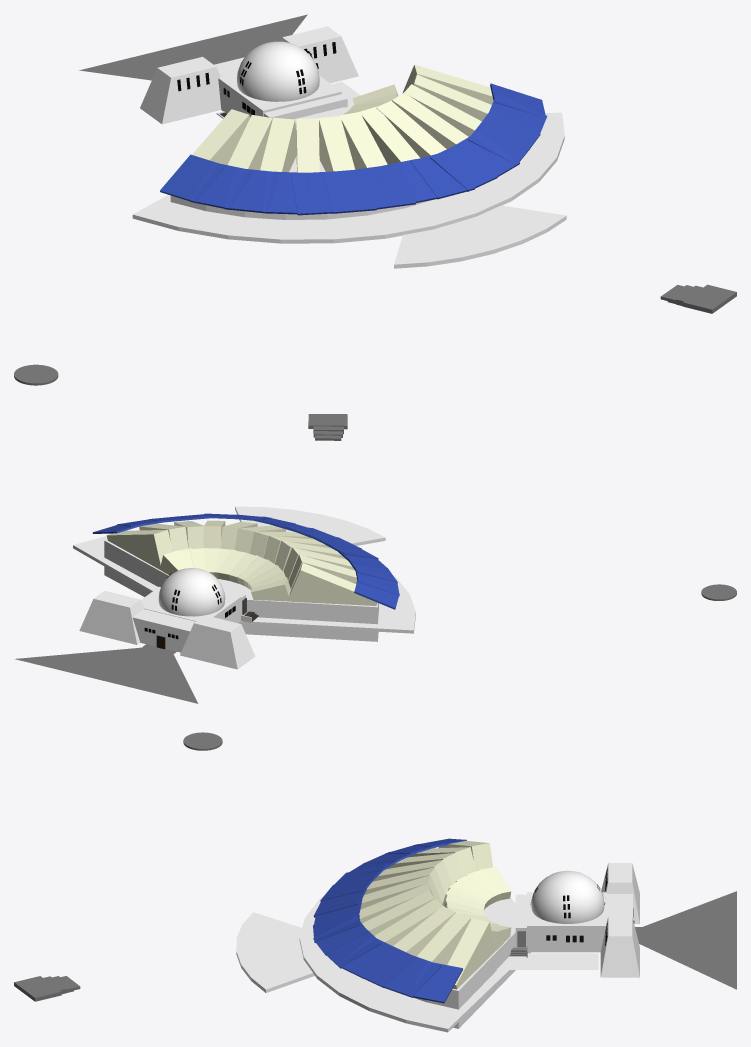
File: nyasta_as_3.obj
The picture shows the model from 3 angles, top to bottom: view 1: azimuth 30°, elevation 25°; view 2: azimuth 150°, elevation 25°; view 3: azimuth 270°, elevation 25°; orthographic projection. The views are drawn at different scales.
Visible parts, largest first — view 1: Cube.047, Cube.033, Cylinder.001, Cylinder.002, Plane, Sphere, h_hlid, v_hlid, innanhus, syningarsalur, Cube, Cube.019 (+1 smaller); view 2: Cube.033, syningarsalur, Plane, Cube.047, Cylinder.001, h_hlid, Sphere, v_hlid, Cylinder.002, adaldyr, Cube, innanhus (+1 smaller); view 3: Cube.033, Cube.047, Plane, Cylinder.001, Cylinder.002, Sphere, innanhus, syningarsalur, v_hlid, Plane.001, h_hlid, Cube (+3 smaller).
Boxes of the visible parts, <box> form: Cube.047: <box>160,83,547,215</box>; Cube.033: <box>192,64,493,172</box>; Cylinder.001: <box>132,112,564,243</box>; Cylinder.002: <box>394,205,566,268</box>; Plane: <box>79,14,307,80</box>; Sphere: <box>236,41,319,101</box>; h_hlid: <box>140,56,221,124</box>; v_hlid: <box>280,26,358,83</box>; innanhus: <box>218,72,341,117</box>; syningarsalur: <box>170,107,433,219</box>; Cube: <box>660,284,736,313</box>; Cube.019: <box>263,94,347,119</box>; Cube.033: <box>106,520,377,605</box>; syningarsalur: <box>104,539,378,641</box>; Plane: <box>15,644,198,703</box>; Cube.047: <box>92,513,399,609</box>; Cylinder.001: <box>73,536,415,633</box>; h_hlid: <box>180,615,255,669</box>; Sphere: <box>158,568,225,616</box>; v_hlid: <box>79,590,144,644</box>; Cylinder.002: <box>235,506,385,545</box>; adaldyr: <box>132,609,195,652</box>; Cube: <box>308,414,347,440</box>; innanhus: <box>144,592,241,622</box>; Cube.033: <box>359,841,511,989</box>; Cube.047: <box>313,838,466,1003</box>; Plane: <box>635,891,736,989</box>; Cylinder.001: <box>299,896,530,1032</box>; Cylinder.002: <box>236,912,314,992</box>; Sphere: <box>531,870,604,923</box>; innanhus: <box>527,892,607,952</box>; syningarsalur: <box>414,898,515,1028</box>; v_hlid: <box>600,917,639,977</box>; Plane.001: <box>496,953,598,969</box>; h_hlid: <box>601,863,639,923</box>; Cube: <box>14,976,80,1001</box>.
Bounding box in the file's own units: 71.2 × 9.13 × 73.85.
